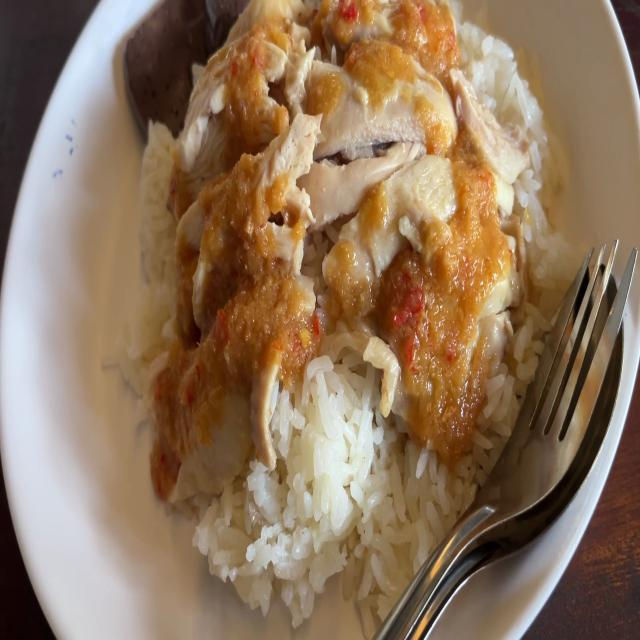boiled_chicken: (178, 0, 483, 423)
boiled_chicken_blood_jelly: (118, 0, 219, 123)
chicken_rice: (112, 0, 560, 613)
